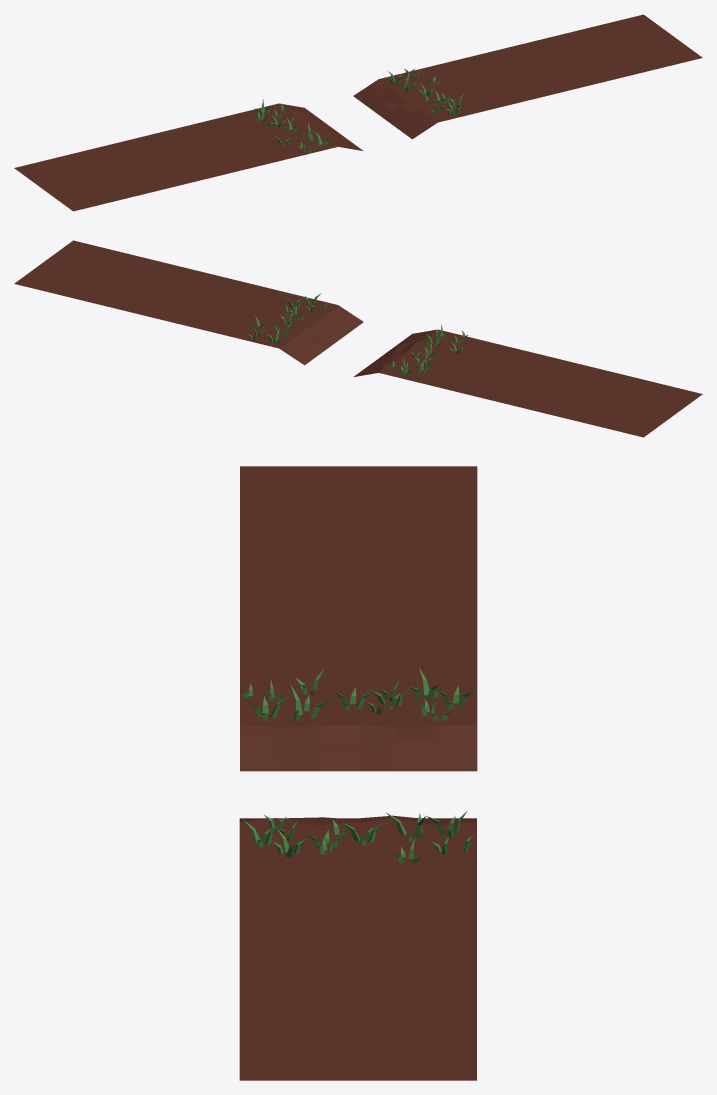
Rendered from side_ground.glb.
3 renders of one model, top to bottom at view 1: azimuth 30°, elevation 25°; view 2: azimuth 150°, elevation 25°; view 3: azimuth 270°, elevation 25°, orthographic. The views are drawn at different scales.
Visible parts, largest first — view 1: side ground; view 2: side ground; view 3: side ground.
Boxes of the visible parts, x1=… form: side ground: x1=14, y1=14, x2=702, y2=211; side ground: x1=14, y1=240, x2=702, y2=437; side ground: x1=239, y1=466, x2=477, y2=1080.
Bounding box in the file's own units: 24.52 × 0.8527 × 4.
